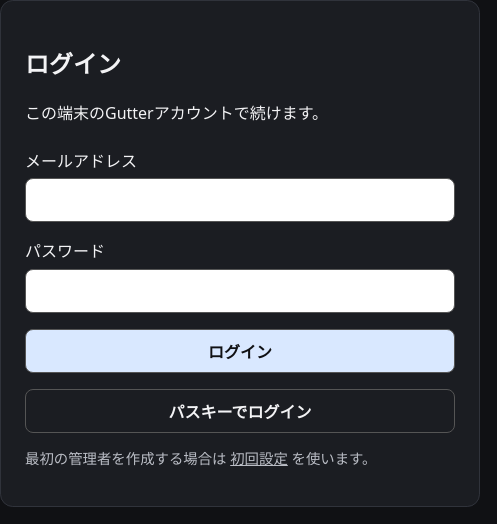
Test: login and setup UI › shows the required TOTP/recovery challenge after password sign-in
Type "user@example.invalid" into the field labelled "メールアドレス". click: [240, 200]
box: [25, 178, 455, 222]
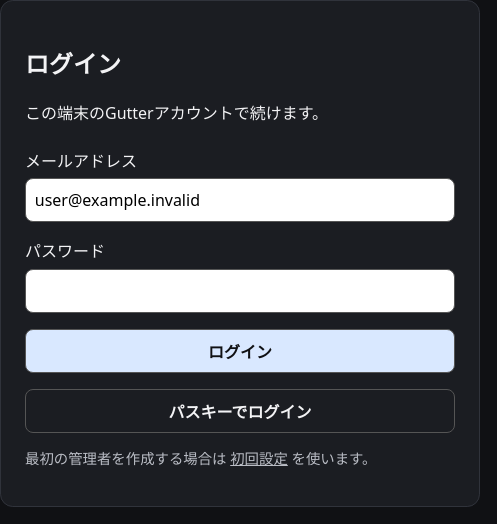
Type "correct horse battery staple" into the password field labelled "パスワード". click: [240, 291]
box: [25, 269, 455, 313]
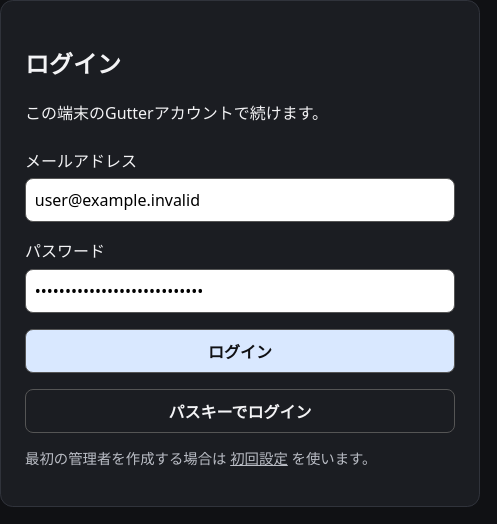
Submit the form "ログイン", box [25, 148, 455, 373]
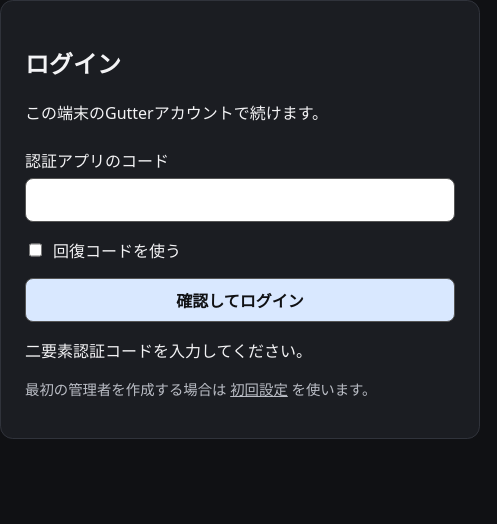
Check: the field labelled "認証アプリのコード" is shown, box [25, 178, 455, 222]
Check: the text "二要素認証コードを入力してください。" is shown, box [25, 340, 312, 362]
